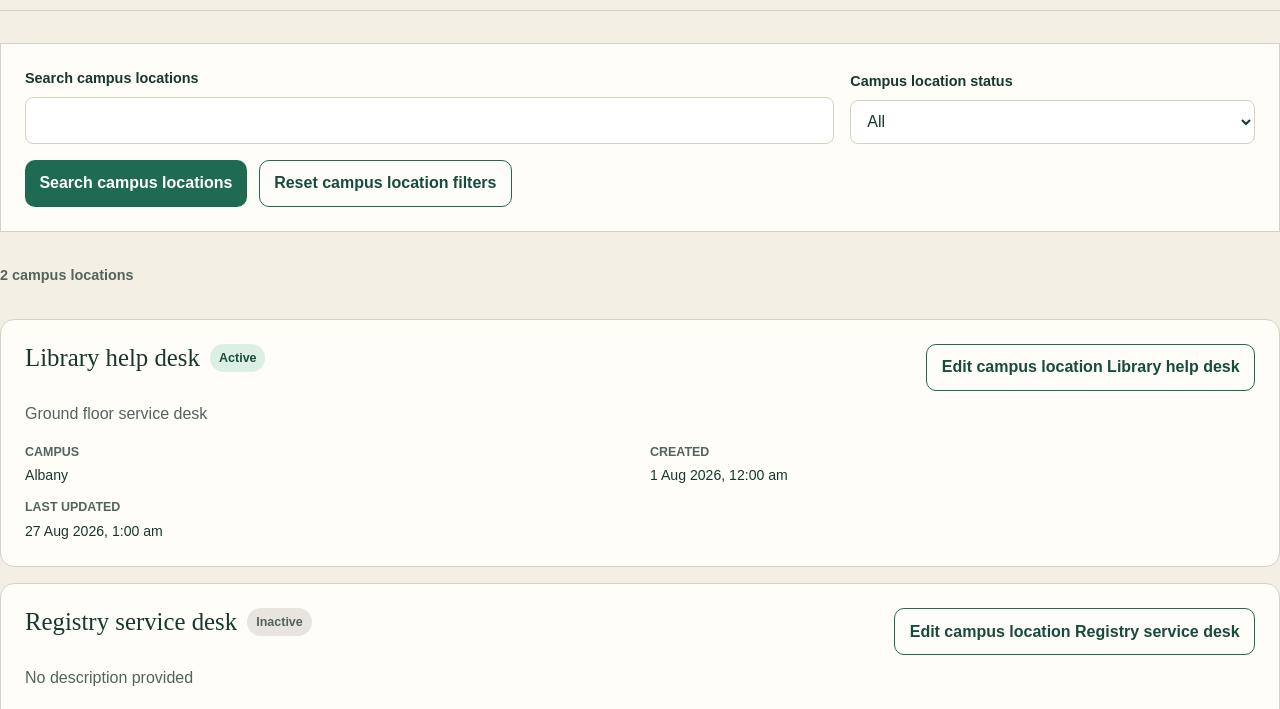
retains an edit after a safe server failure and allows an explicit retry
(page scrolled)
Expected: the heading "Library help desk" is shown, 25,344 -> 200,372
Click the button "Edit campus location Library help desk".
click(1091, 367)  # box 926,344 -> 1255,391
(page scrolled)
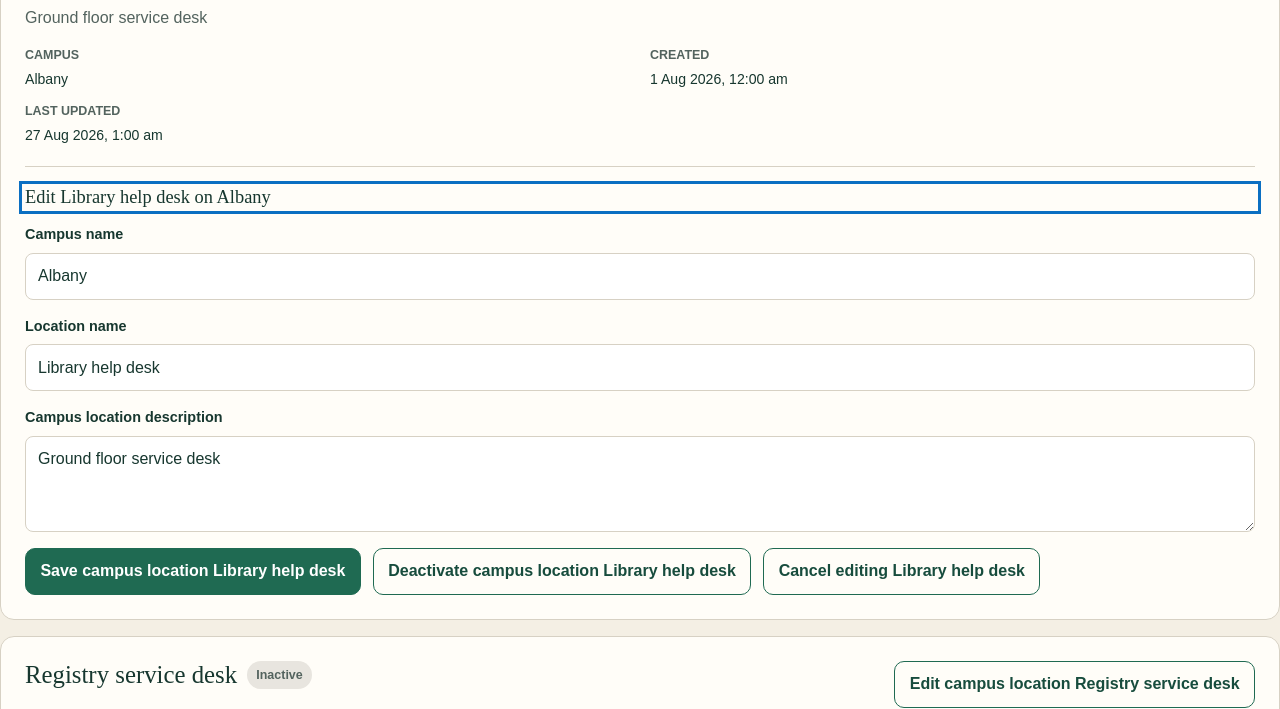
Replace the text in the field labelled "Location name" with "Library reception" at {"x": 640, "y": 368}, box 25,344 -> 1255,391
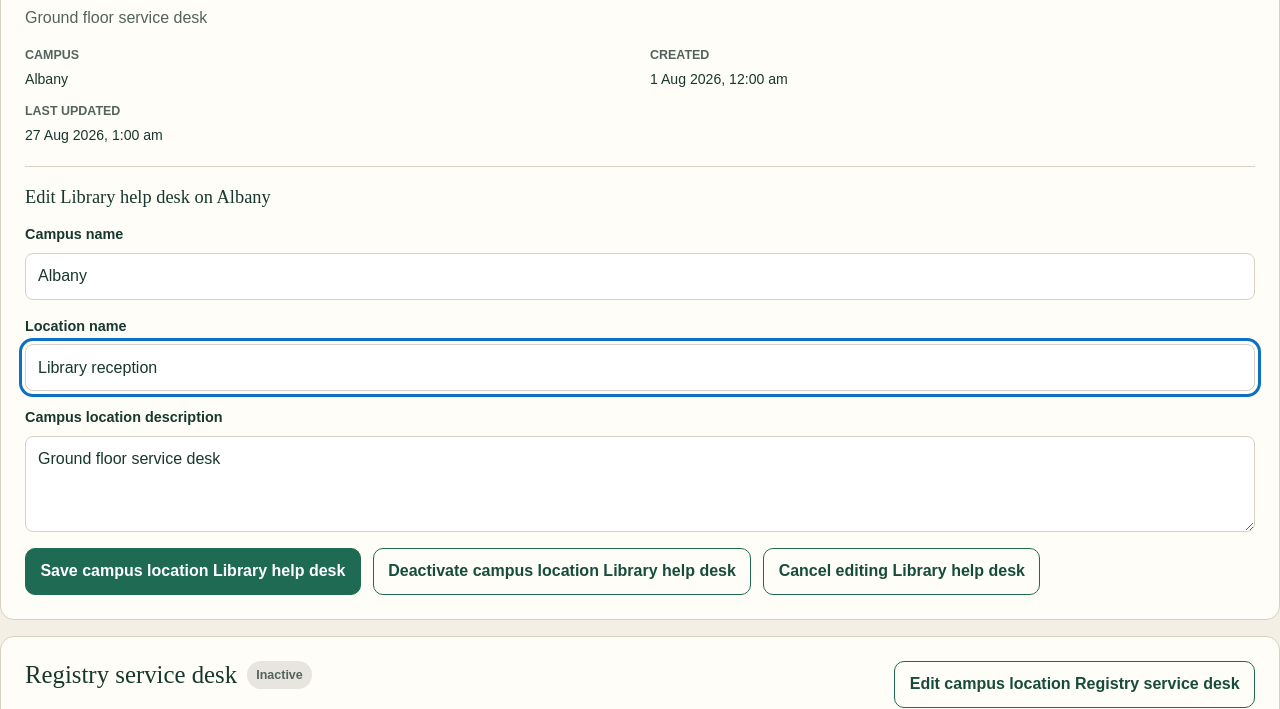
Click the button "Save campus location Library help desk".
click(193, 572)  # box 25,548 -> 361,595
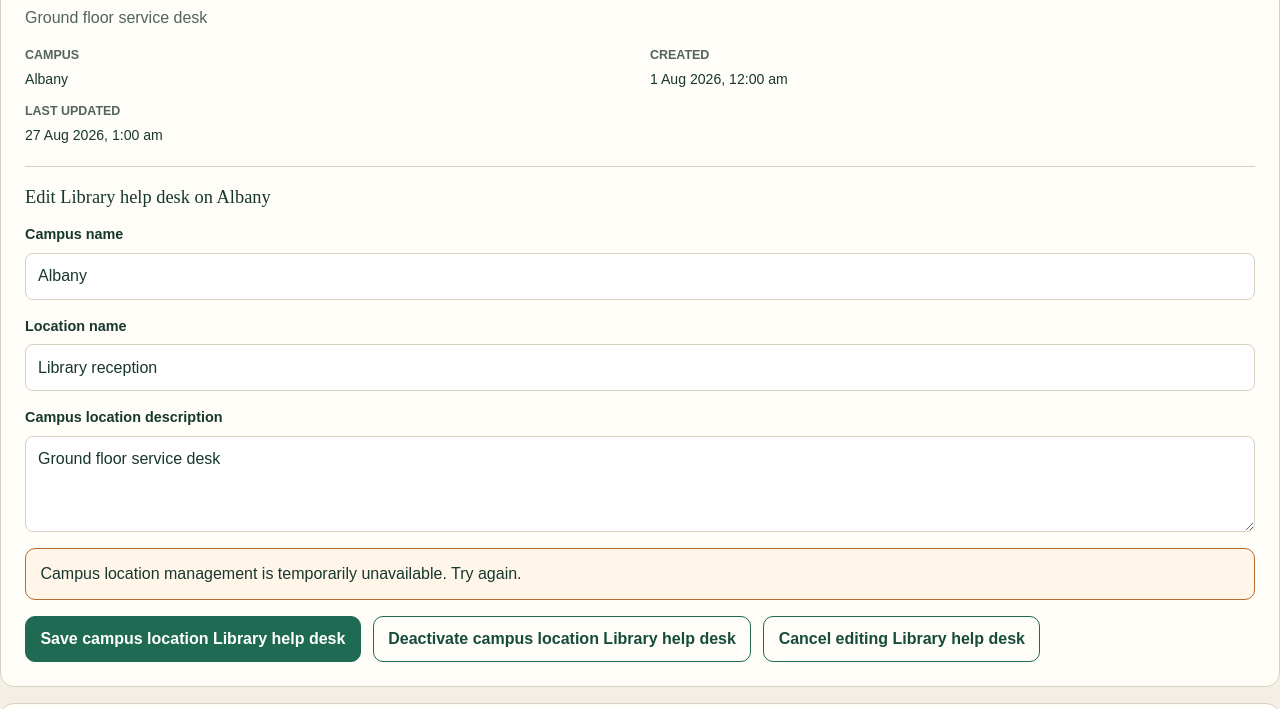
Expected: the message reads "Campus location management is temporarily unavailable. Try again.", 40,565 -> 522,582
Click the button "Save campus location Library help desk".
click(193, 639)  # box 25,616 -> 361,662
(page scrolled)
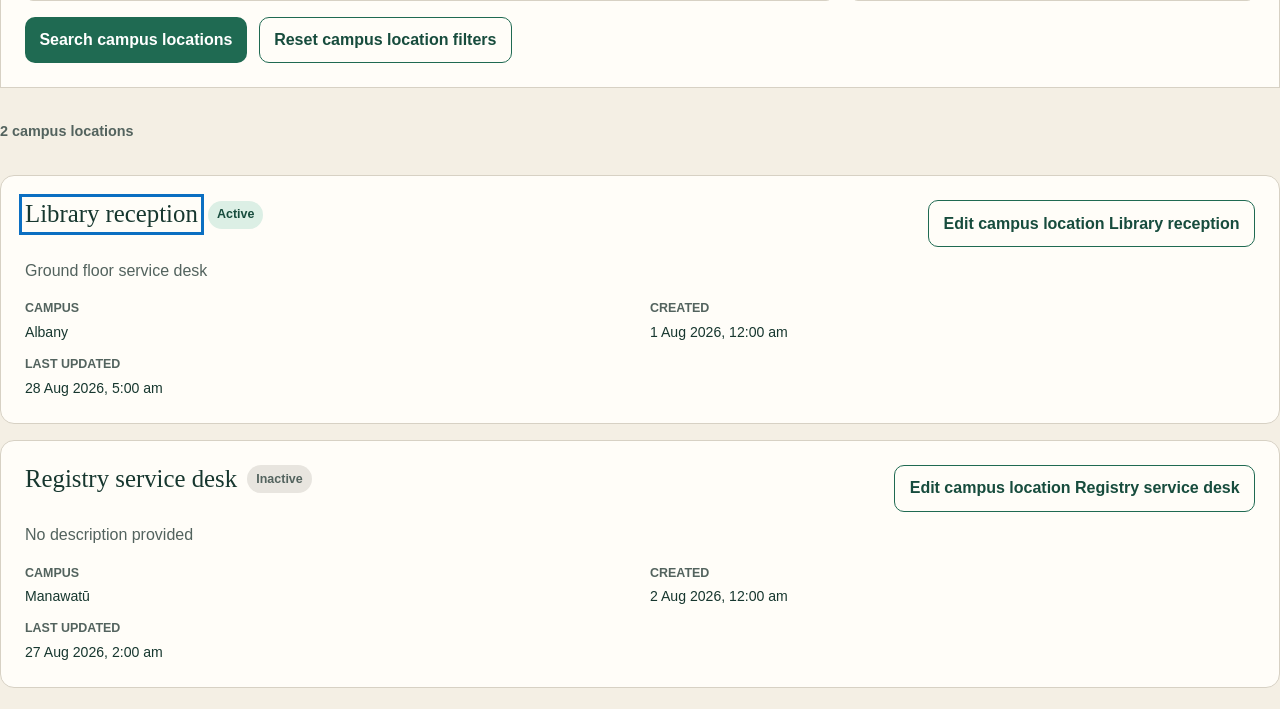
Expected: the heading "Library reception" is shown, 25,200 -> 198,229
